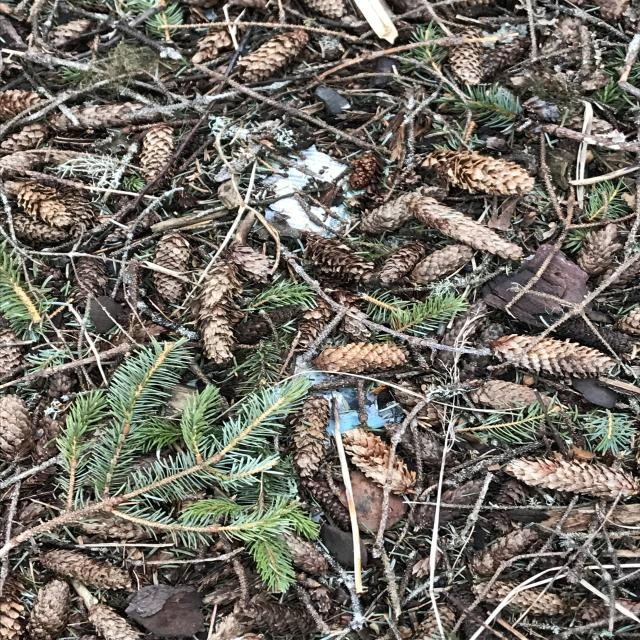litter: (192, 205, 320, 290), (516, 177, 582, 239)
